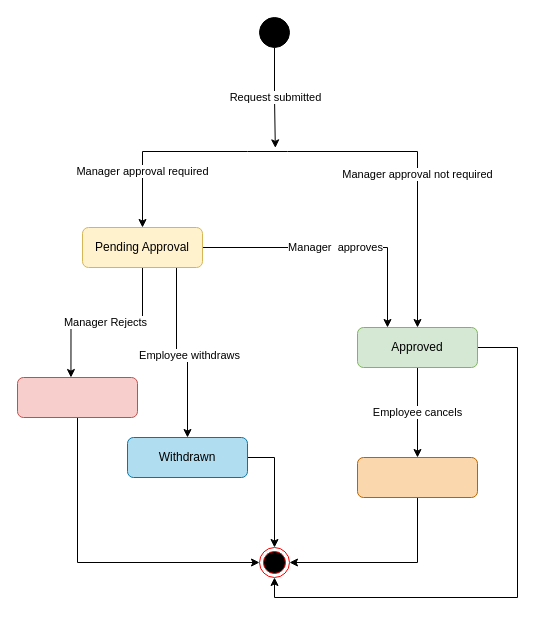
This 543x623 diagram has some shape labels left out. Each missing label, with the centre of its shape:
"Cancelled" belongs at point 417,477.
"Rejected" belongs at point 77,397.
